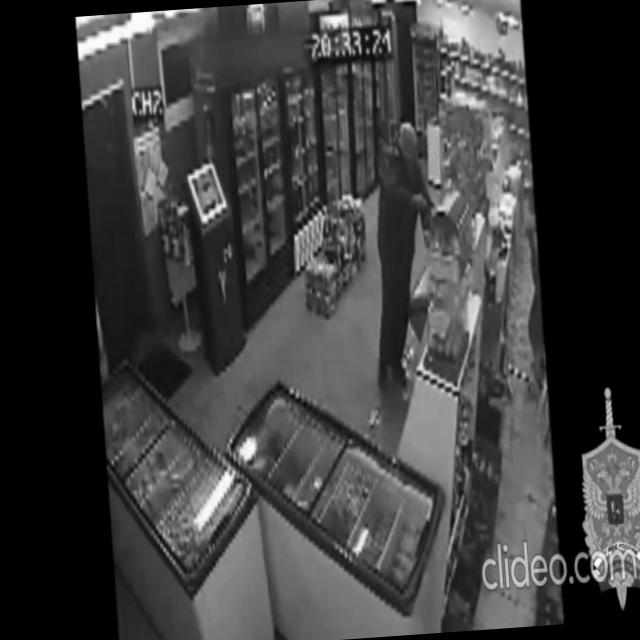gun: (419, 185, 436, 212)
person with a gun: (360, 117, 449, 388)
